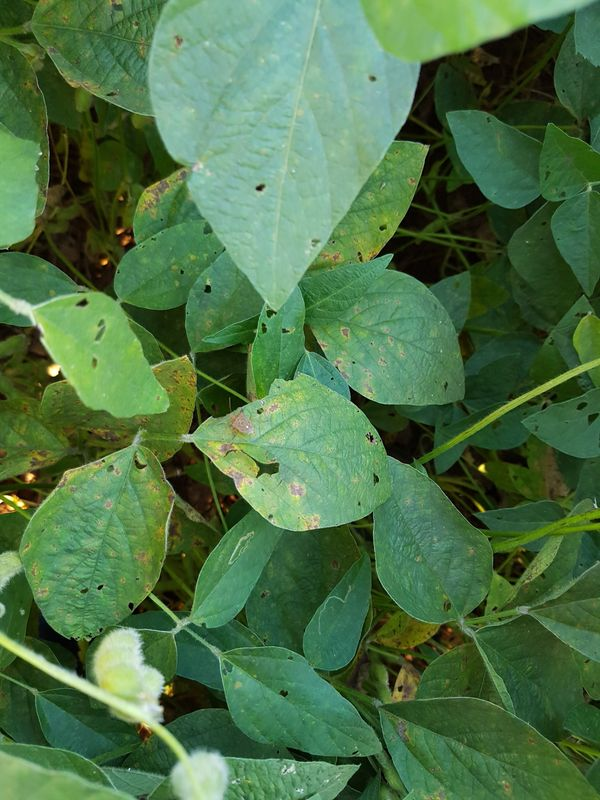Euschistus_heros_adulto: (224, 407, 262, 442)
